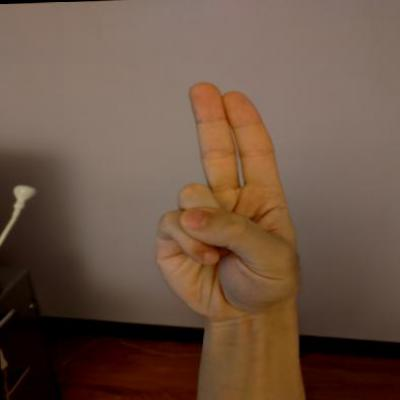hand: (142, 75, 312, 324)
